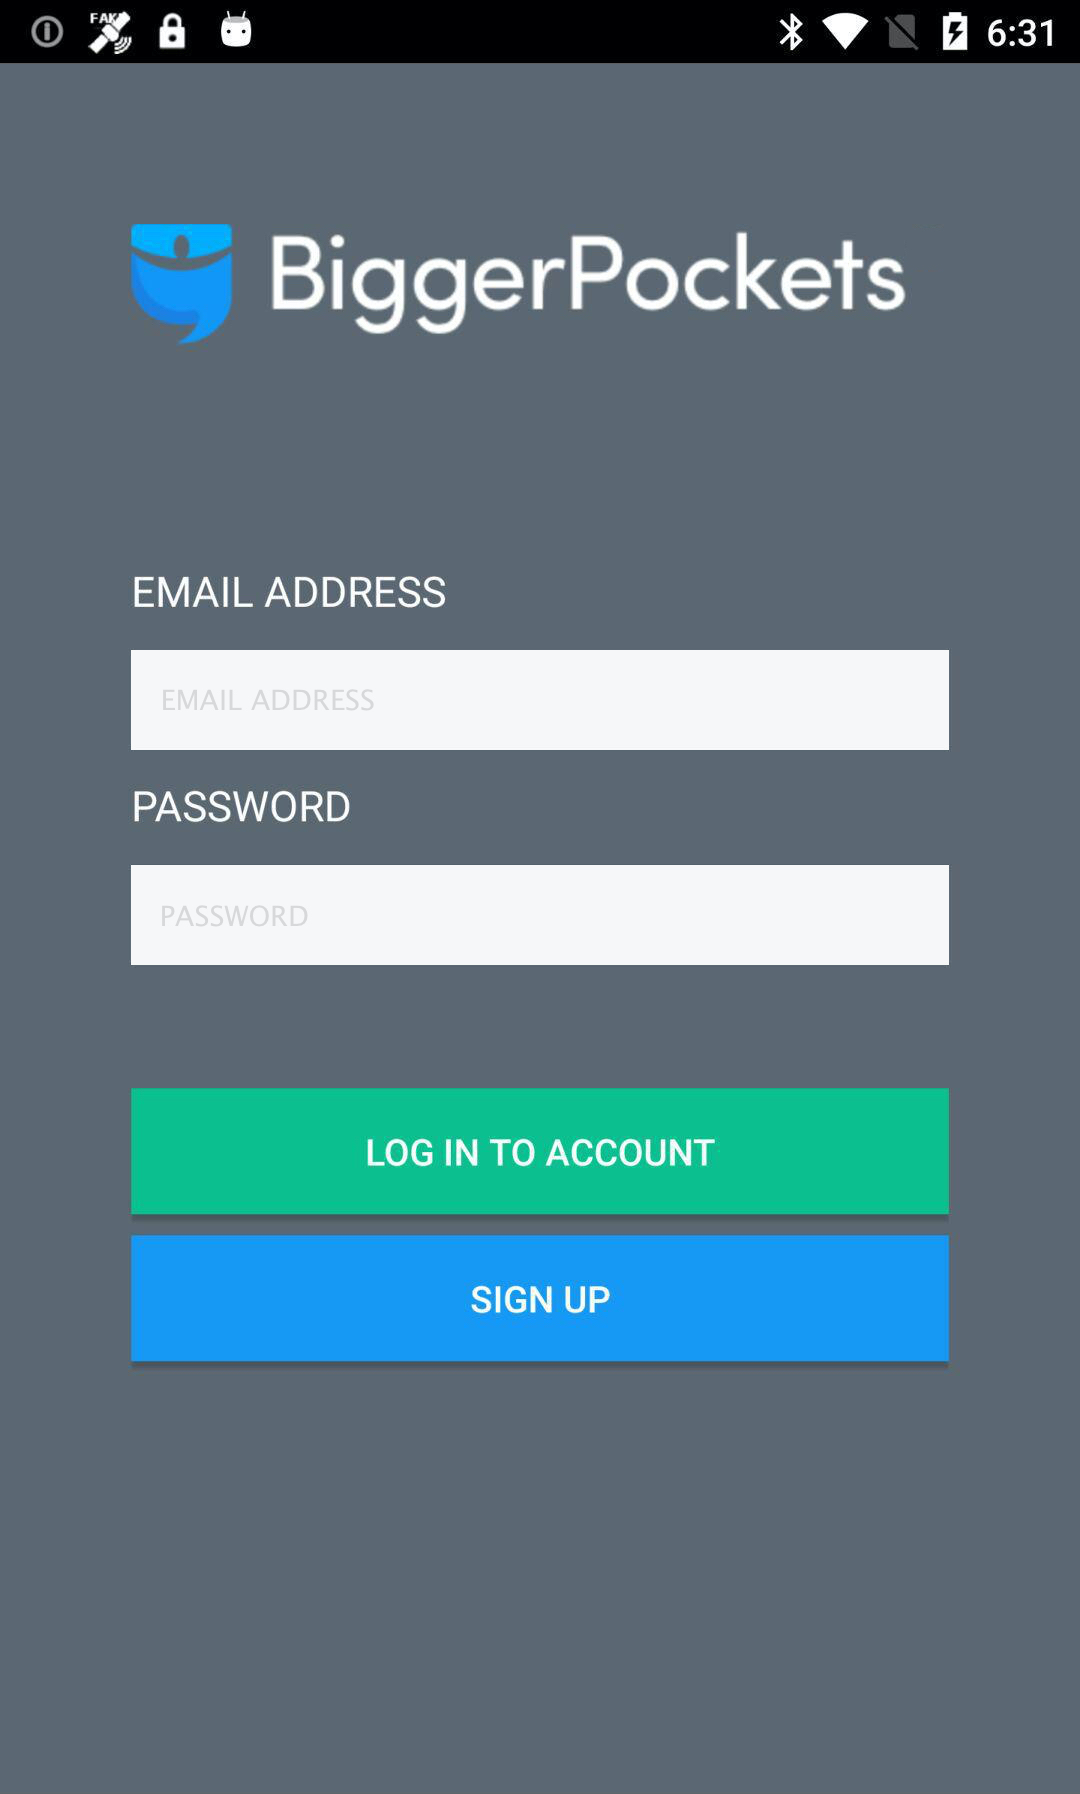EditText: (131, 865, 951, 967), (131, 650, 951, 752)
Image: (129, 224, 234, 349)
Text: (272, 231, 907, 337), (135, 575, 446, 609), (135, 789, 351, 824), (164, 689, 375, 711), (161, 905, 309, 928)
TextButton: (131, 1234, 951, 1363), (131, 1089, 951, 1217)
UpperTaskBar: (1, 1, 1080, 64)
